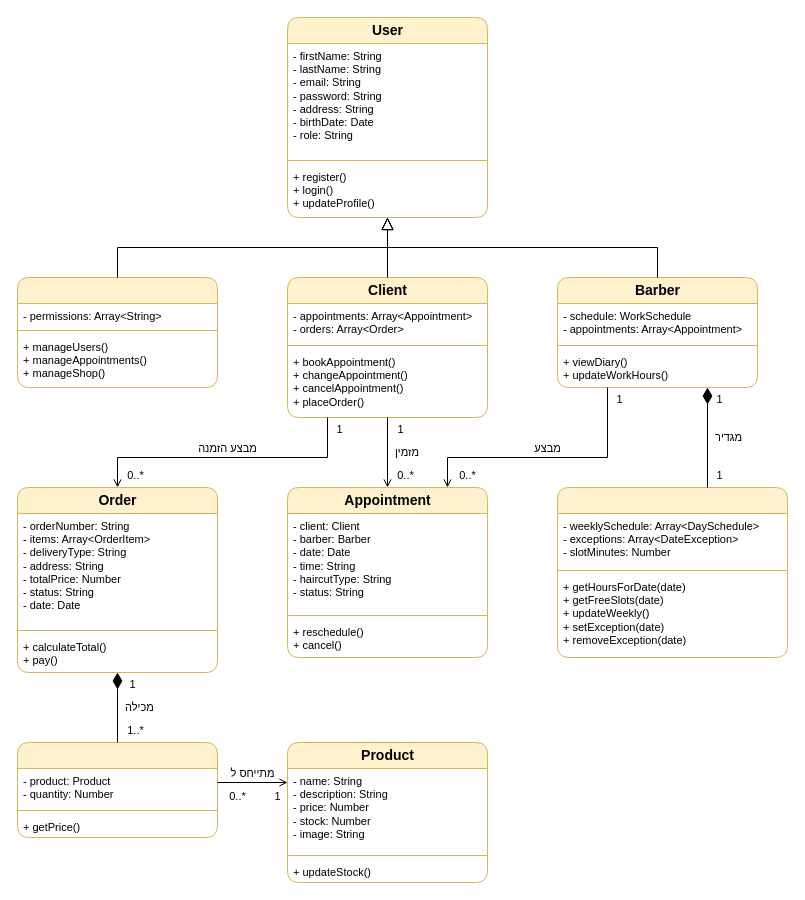
Some shapes in this 805 by 900 pixel diagram are drawn without their labels. Here are the shapes that lost their labels. From the top down, the box of each, then its label:
(16, 276, 218, 388): Admin
(556, 486, 788, 658): WorkSchedule
(16, 742, 218, 838): OrderItem
